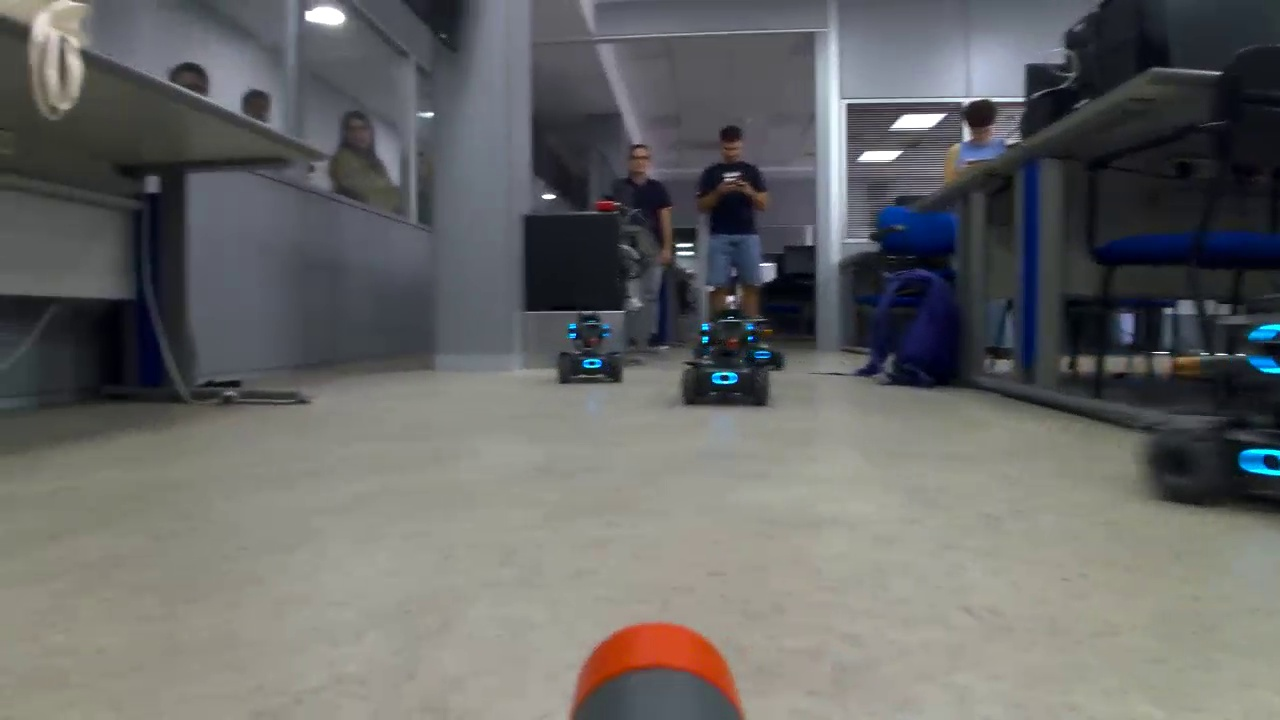robot: (1143, 310, 1280, 518), (673, 312, 773, 411), (551, 304, 629, 385), (742, 320, 790, 372), (690, 319, 724, 366)
